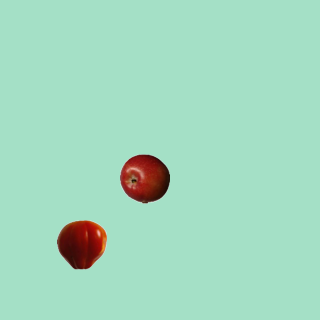Apple Braeburn: (119, 153, 169, 203)
Tomato 1: (56, 219, 106, 269)
